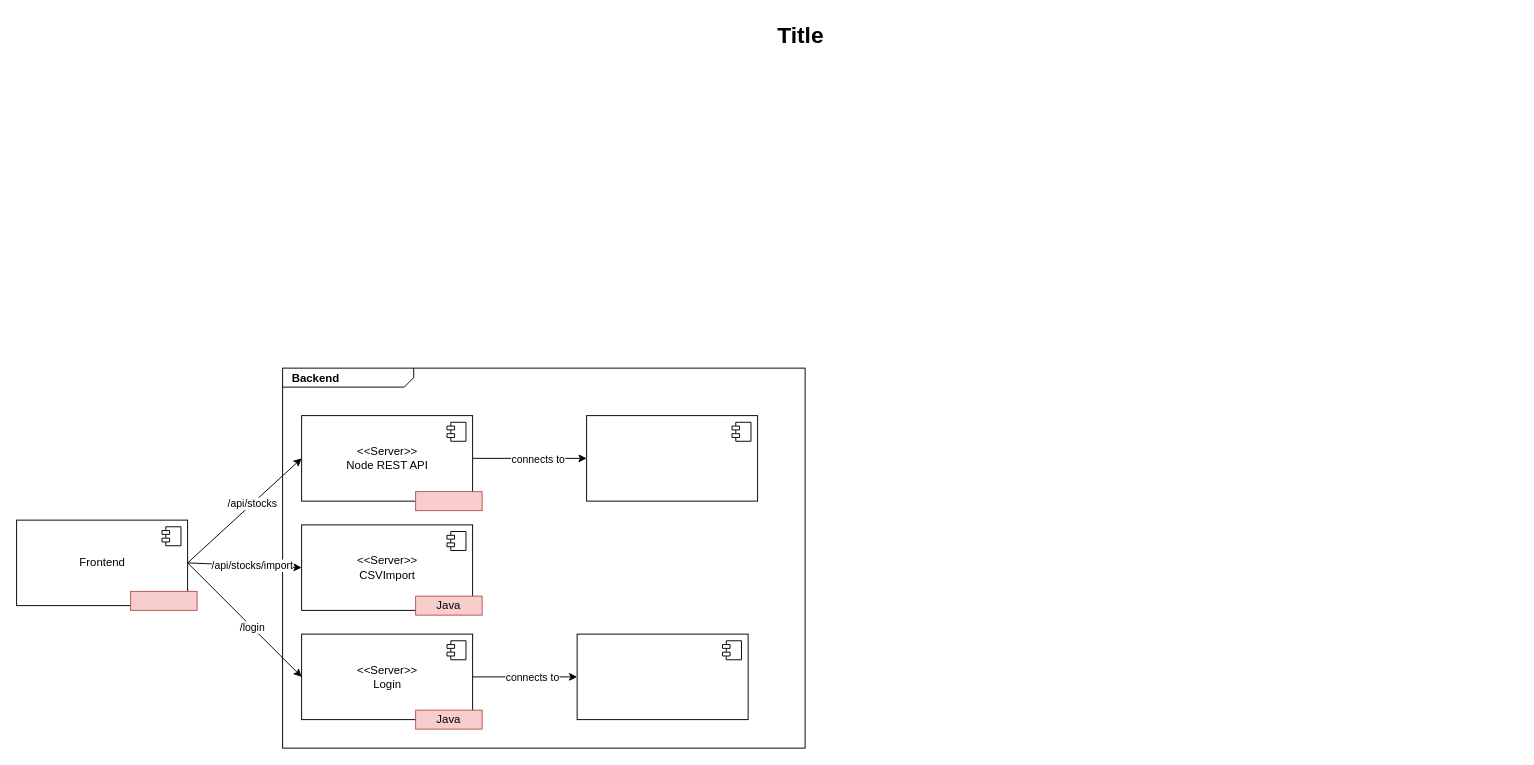
Some shapes in this 1534 by 765 pixel diagram are drawn without their labels. Each missing label, with the centre of its shape:
<<Datenbank>> MongoDB Atlas: point (672, 458)
<<Datenbank>> PostgresSQL: point (662, 676)
NodeJS: point (448, 501)
ReactJs: point (163, 600)
